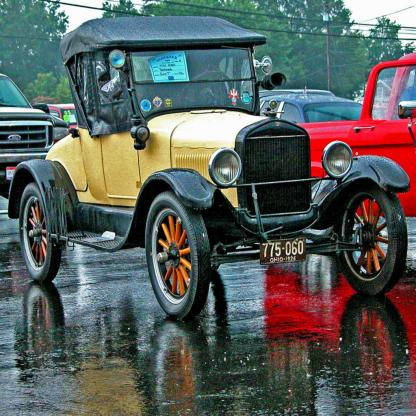Car: (1, 11, 416, 326)
